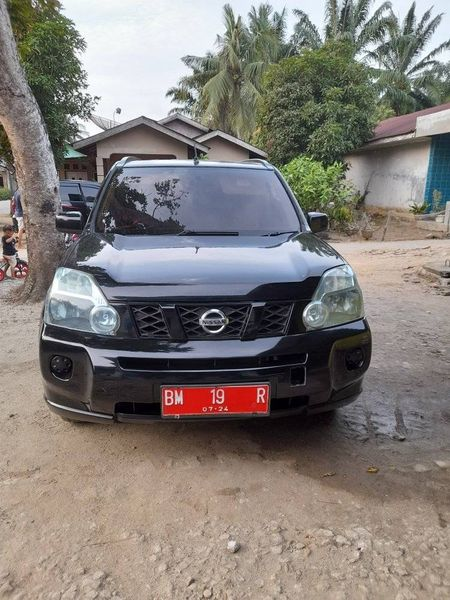plate: (159, 380, 279, 421)
